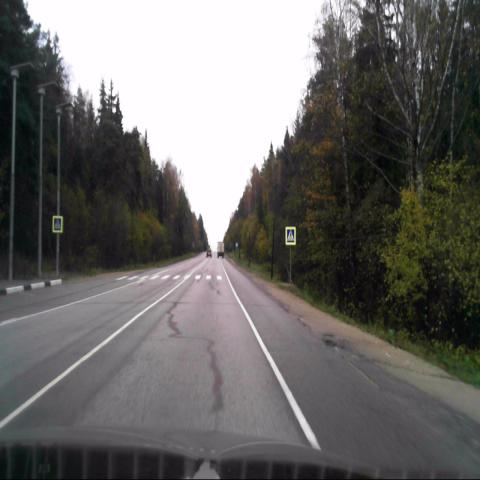5_19_1: (286, 226, 296, 244), (53, 216, 63, 233)
